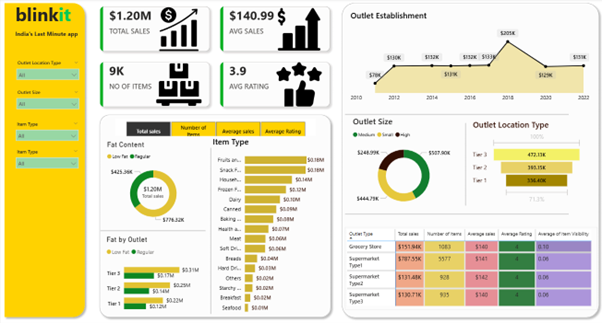

Layout of this report page (visuals, bound fields, positions):
{"tool":"powerbi","page":{"name":"dashboard","canvas":[1400,800],"ordinal":0},"visuals":[{"type":"shape","box":[0,0,205.1,749.3],"z":0},{"type":"textbox","box":[29.5,17.4,163.5,68.4],"z":1000},{"type":"textbox","box":[29.5,76.4,163.5,26.8],"z":2000},{"type":"cardVisual","fields":{"Data":["BlinkIT Grocery Data.Total sales","BlinkIT Grocery Data.Average sales","BlinkIT Grocery Data.Number of Items","Sum(BlinkIT Grocery Data.Rating)"]},"box":[214.6,0,569.5,269.6],"z":3000},{"type":"shape","box":[220.8,260.6,555.4,489.9],"z":4000},{"type":"donutChart","title":"Fat Content","fields":{"Y":["BlinkIT Grocery Data.Total sales"],"Category":["BlinkIT Grocery Data.Item Fat Content"]},"box":[242.6,328.4,225.2,202.4],"z":5000},{"type":"slicer","fields":{"Values":["Metrics.Metrics"]},"box":[266.9,279.2,464.9,39.9],"z":6000},{"type":"cardVisual","fields":{"Data":["BlinkIT Grocery Data.Total sales"]},"box":[304,415.4,99,66],"z":7000},{"type":"clusteredBarChart","title":"Fat by Outlet","fields":{"Y":["BlinkIT Grocery Data.Total sales"],"Category":["BlinkIT Grocery Data.Outlet Location Type"],"Series":["BlinkIT Grocery Data.Item Fat Content"]},"box":[241.3,549.6,225.2,193],"z":8000},{"type":"shape","box":[232.1,519.8,245,38.5],"z":9000},{"type":"shape","box":[477.1,346.1,22.8,387.4],"z":10000},{"type":"barChart","title":"Item Type","fields":{"Y":["BlinkIT Grocery Data.Total sales"],"Category":["BlinkIT Grocery Data.Item Type"]},"box":[488.5,319,269.2,423],"z":11000},{"type":"shape","box":[784.2,0,615.3,750.7],"z":12000},{"type":"lineChart","title":"Outlet Establishment","fields":{"Y":["BlinkIT Grocery Data.Total sales"],"Category":["BlinkIT Grocery Data.Outlet Establishment Year"]},"box":[808.3,25.5,564.3,222.5],"z":13000},{"type":"donutChart","title":"Outlet Size","fields":{"Y":["BlinkIT Grocery Data.Total sales"],"Category":["BlinkIT Grocery Data.Outlet Size"]},"box":[813.7,272.1,246.7,225.2],"z":14000},{"type":"shape","box":[800.4,249.2,519.8,38.5],"z":15000},{"type":"shape","box":[1068.4,288.2,24.1,193],"z":16000},{"type":"funnel","title":"Outlet Location Type","fields":{"Category":["BlinkIT Grocery Data.Outlet Location Type"],"Y":["Sum(BlinkIT Grocery Data.Sales)"]},"box":[1092.5,278.8,262.7,202.4],"z":17000},{"type":"shape","box":[800.4,481.4,519.8,38.5],"z":18000},{"type":"pivotTable","fields":{"Values":["BlinkIT Grocery Data.Total sales","BlinkIT Grocery Data.Number of Items","BlinkIT Grocery Data.Average sales","BlinkIT Grocery Data.Average Rating","Avg(BlinkIT Grocery Data.Item Visibility)"],"Rows":["BlinkIT Grocery Data.Outlet Type"]},"box":[800.3,530.8,555,191.7],"z":19000},{"type":"slicer","fields":{"Values":["BlinkIT Grocery Data.Outlet Location Type"]},"box":[26.8,136.7,166.2,64.3],"z":20000},{"type":"slicer","fields":{"Values":["BlinkIT Grocery Data.Outlet Size"]},"box":[26.8,205.1,166.2,64.3],"z":21000},{"type":"slicer","fields":{"Values":["BlinkIT Grocery Data.Item Type"]},"box":[25.5,278.8,166.2,64.3],"z":22000},{"type":"slicer","fields":{"Values":["BlinkIT Grocery Data.Item Type"]},"box":[25.5,343.2,166.2,64.3],"z":23000}]}

Visuals, with their boxes on the page's 1400x800 design canvas (x1, y1, x2, y2). These are canvas units, not pixel positions in the 602x323 screenshot, which may show the page scaled, cropped or inside an application window:
shape: <region>0, 0, 205, 749</region>
textbox: <region>30, 17, 193, 86</region>
textbox: <region>30, 76, 193, 103</region>
cardVisual - BlinkIT Grocery Data.Total sales x BlinkIT Grocery Data.Average sales: <region>215, 0, 784, 270</region>
shape: <region>221, 261, 776, 750</region>
"Fat Content" donutChart: <region>243, 328, 468, 531</region>
slicer - Metrics.Metrics: <region>267, 279, 732, 319</region>
cardVisual - BlinkIT Grocery Data.Total sales: <region>304, 415, 403, 481</region>
"Fat by Outlet" clusteredBarChart: <region>241, 550, 466, 743</region>
shape: <region>232, 520, 477, 558</region>
shape: <region>477, 346, 500, 734</region>
"Item Type" barChart: <region>488, 319, 758, 742</region>
shape: <region>784, 0, 1400, 751</region>
"Outlet Establishment" lineChart: <region>808, 26, 1373, 248</region>
"Outlet Size" donutChart: <region>814, 272, 1060, 497</region>
shape: <region>800, 249, 1320, 288</region>
shape: <region>1068, 288, 1092, 481</region>
"Outlet Location Type" funnel: <region>1092, 279, 1355, 481</region>
shape: <region>800, 481, 1320, 520</region>
pivotTable - BlinkIT Grocery Data.Total sales x BlinkIT Grocery Data.Number of Items: <region>800, 531, 1355, 722</region>
slicer - BlinkIT Grocery Data.Outlet Location Type: <region>27, 137, 193, 201</region>
slicer - BlinkIT Grocery Data.Outlet Size: <region>27, 205, 193, 269</region>
slicer - BlinkIT Grocery Data.Item Type: <region>26, 279, 192, 343</region>
slicer - BlinkIT Grocery Data.Item Type: <region>26, 343, 192, 408</region>
